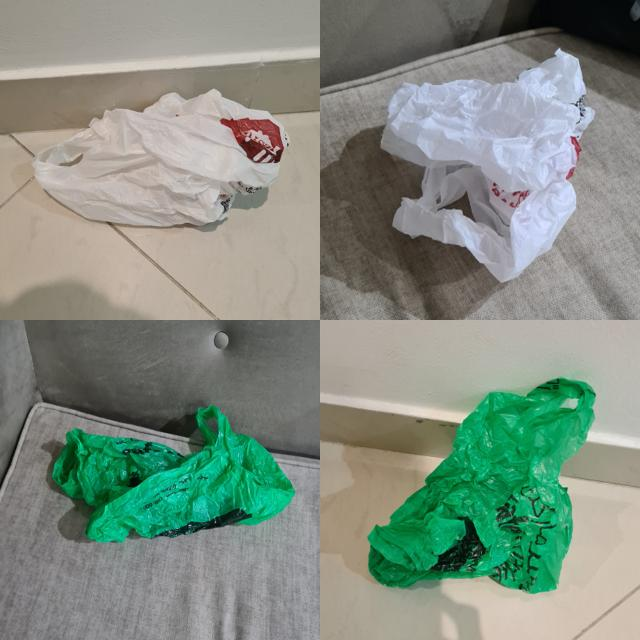Single-layer Plastic: (381, 50, 594, 282), (369, 379, 595, 594), (32, 90, 289, 226), (52, 405, 295, 542)
